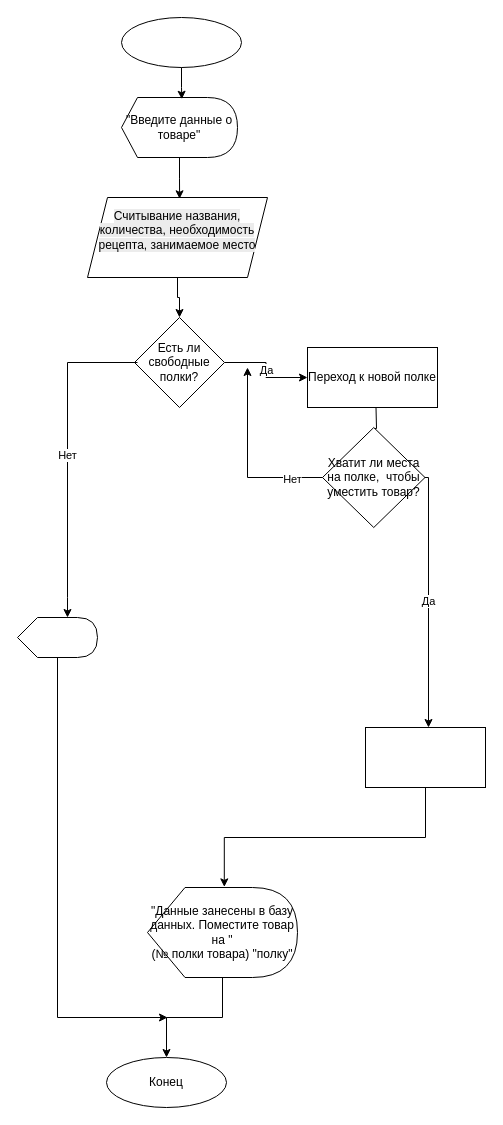
Some shapes in this 503 by 1125 pixel diagram are drawn without their labels. The shapes that lost their labels are listed below. From the top down, each one's box as (x1, y1, x2, y2) in pixels, then its label:
(120, 16, 242, 68): Начало
(16, 616, 98, 658): "Свободных полок нет"
(364, 726, 486, 788): Занесение значений в базу данных
